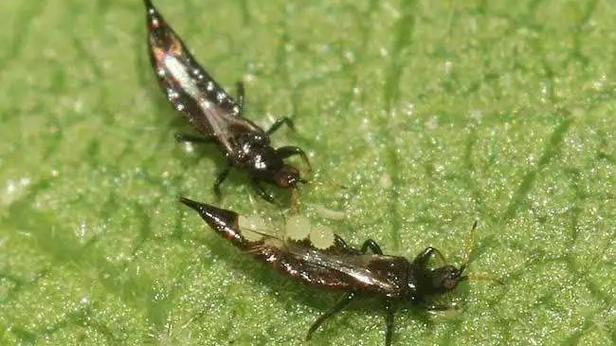Phlaeothripidae: (174, 191, 506, 346), (140, 1, 313, 203)
